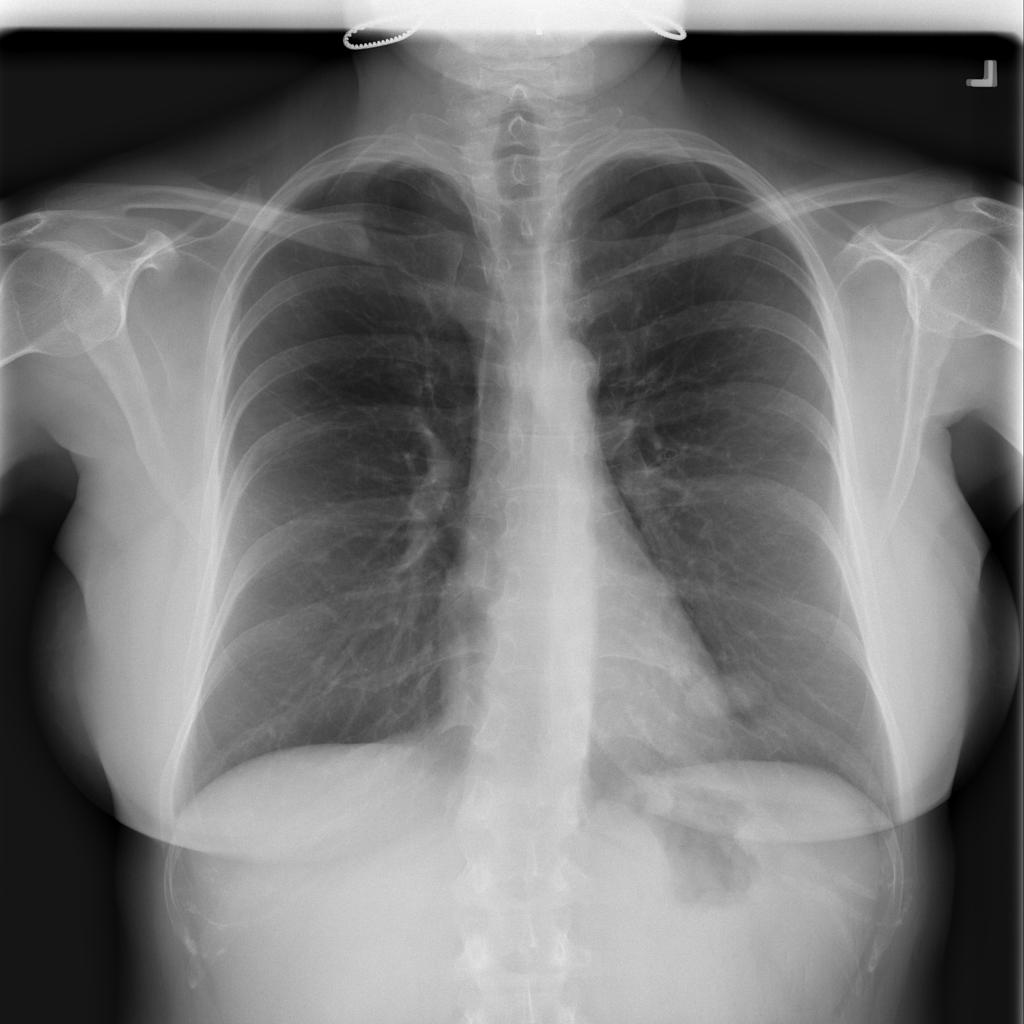nodule: (669, 667, 751, 731), (710, 653, 781, 725)
